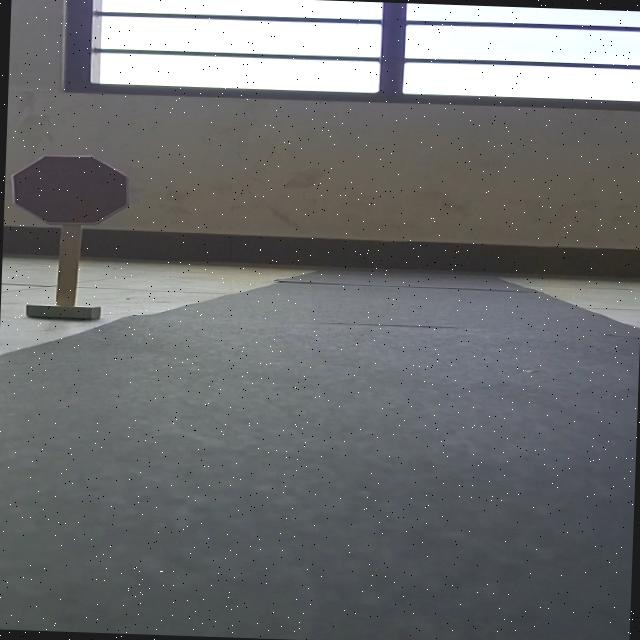Stop: (8, 152, 132, 228)
